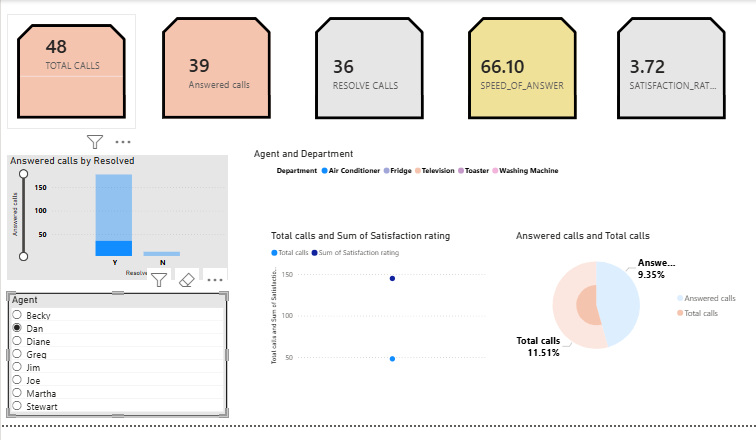

The page's visual inventory and layout, read from the dashboard file:
{"tool":"powerbi","page":{"name":"Page 1","canvas":[1280,720],"ordinal":0},"visuals":[{"type":"cardVisual","fields":{"Data":["Table_1.Total calls"]},"box":[10.1,23.5,218.4,194.9],"z":0},{"type":"cardVisual","fields":{"Data":["Table_1.Answered calls"]},"box":[255.3,11.8,218.4,206.6],"z":1},{"type":"cardVisual","fields":{"Data":["Table_1.Resolve calls"]},"box":[514,12,218,207],"z":2},{"type":"cardVisual","fields":{"Data":["Table_1.Avg speed_of_answered"]},"box":[773,12,218,207],"z":3},{"type":"cardVisual","fields":{"Data":["Table_1.Avg satisfaction_of_rating"]},"box":[1026.5,12,218,207],"z":4},{"type":"columnChart","fields":{"Y":["Table_1.Answered calls"],"Category":["Table_1.Resolved"]},"box":[10.2,262.4,374.2,209.9],"z":5},{"type":"clusteredColumnChart","fields":{"Category":["Table_1.Agent"],"Series":["Table_1.Department"]},"box":[408,230.3,584.1,130.4],"z":6},{"type":"lineChart","fields":{"Y":["Table_1.Total calls","Table_1.Satisfaction rating"]},"box":[452.1,389.4,374.2,235.3],"z":7},{"type":"pieChart","fields":{"Y":["Table_1.Answered calls","Table_1.Total calls"]},"box":[866.9,389.4,391.1,235.3],"z":8},{"type":"listSlicer","fields":{"Values":["Table_1.Agent"]},"box":[10.2,494.4,374.2,211.6],"z":9}]}

Visuals, with their boxes on the page's 1280x720 design canvas (x1, y1, x2, y2). These are canvas units, not pixel positions in the 756x440 screenshot, which may show the page scaled, cropped or inside an application window:
cardVisual - Table_1.Total calls: [10, 24, 228, 218]
cardVisual - Table_1.Answered calls: [255, 12, 474, 218]
cardVisual - Table_1.Resolve calls: [514, 12, 732, 219]
cardVisual - Table_1.Avg speed_of_answered: [773, 12, 991, 219]
cardVisual - Table_1.Avg satisfaction_of_rating: [1026, 12, 1244, 219]
columnChart - Table_1.Answered calls x Table_1.Resolved: [10, 262, 384, 472]
clusteredColumnChart - Table_1.Agent x Table_1.Department: [408, 230, 992, 361]
lineChart - Table_1.Total calls x Table_1.Satisfaction rating: [452, 389, 826, 625]
pieChart - Table_1.Answered calls x Table_1.Total calls: [867, 389, 1258, 625]
listSlicer - Table_1.Agent: [10, 494, 384, 706]
